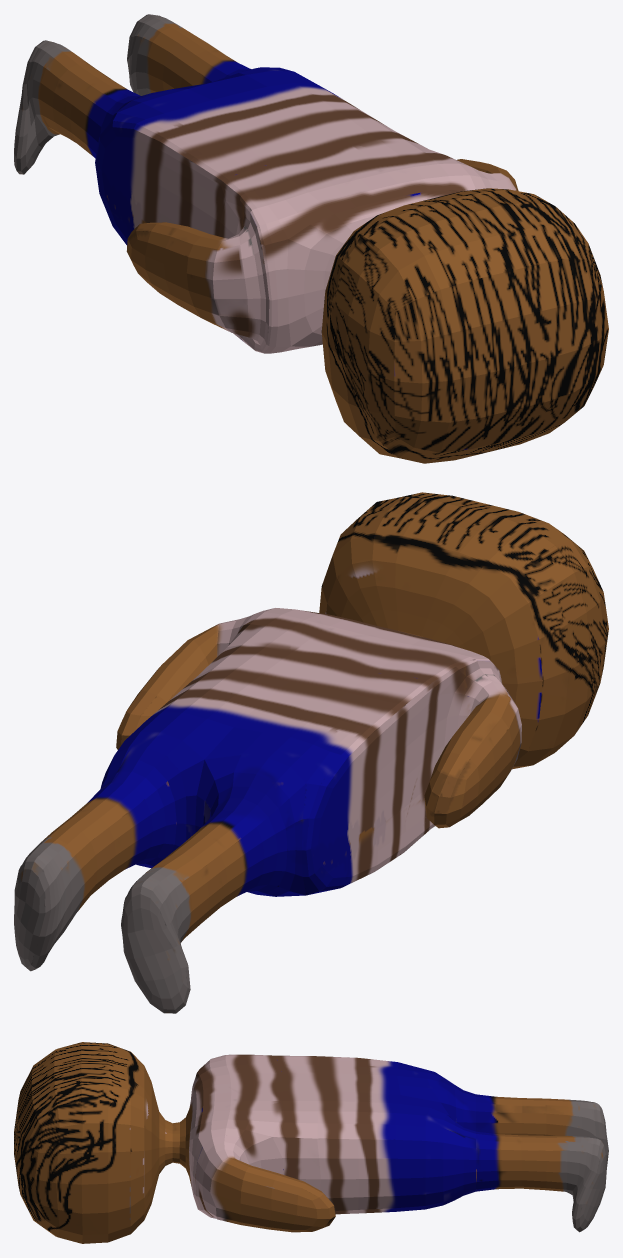
Rendered from antman_stand_3.obj.
3 views of the same model, one above another, from view 1: azimuth 30°, elevation 25°; view 2: azimuth 150°, elevation 25°; view 3: azimuth 270°, elevation 25° (orthographic). The views are drawn at different scales.
Visible parts, largest first — view 1: Cube; view 2: Cube; view 3: Cube.
Part boxes in pixels (x1,y1,x2,y2): Cube: [14, 14, 608, 463]; Cube: [14, 492, 608, 1013]; Cube: [14, 1042, 608, 1243].
Bounding box in the file's own units: 0.8881 × 0.5834 × 1.93.
